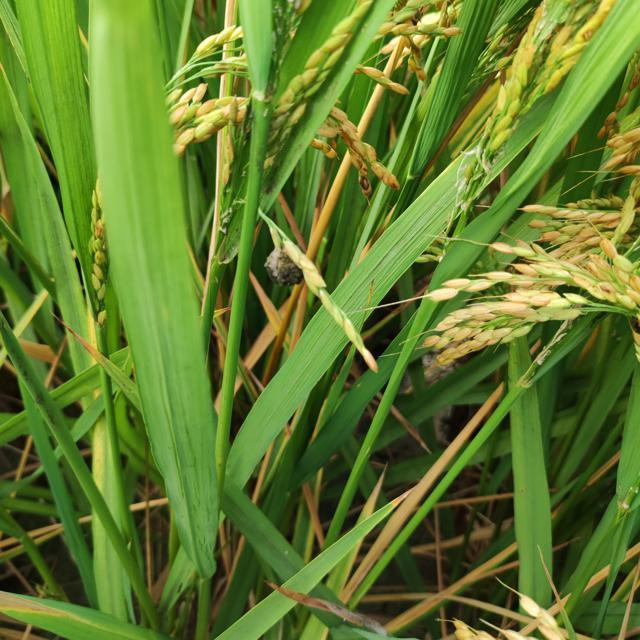Leaf_Scald: (266, 248, 308, 288)
